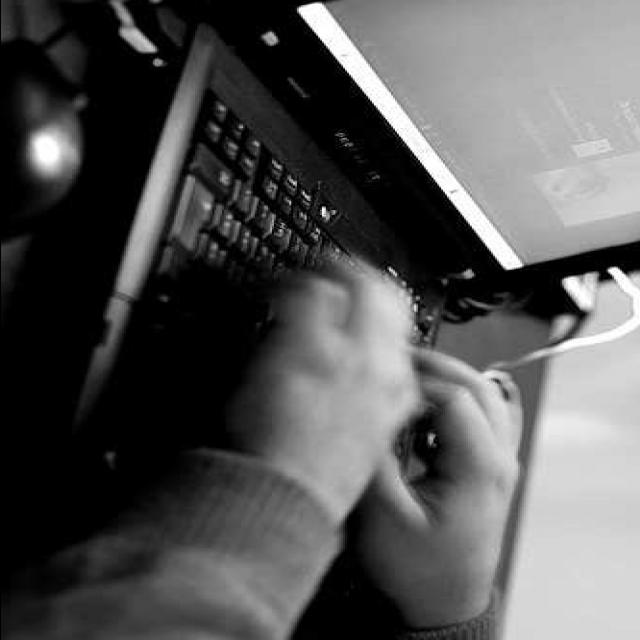laptop: (88, 0, 592, 509)
